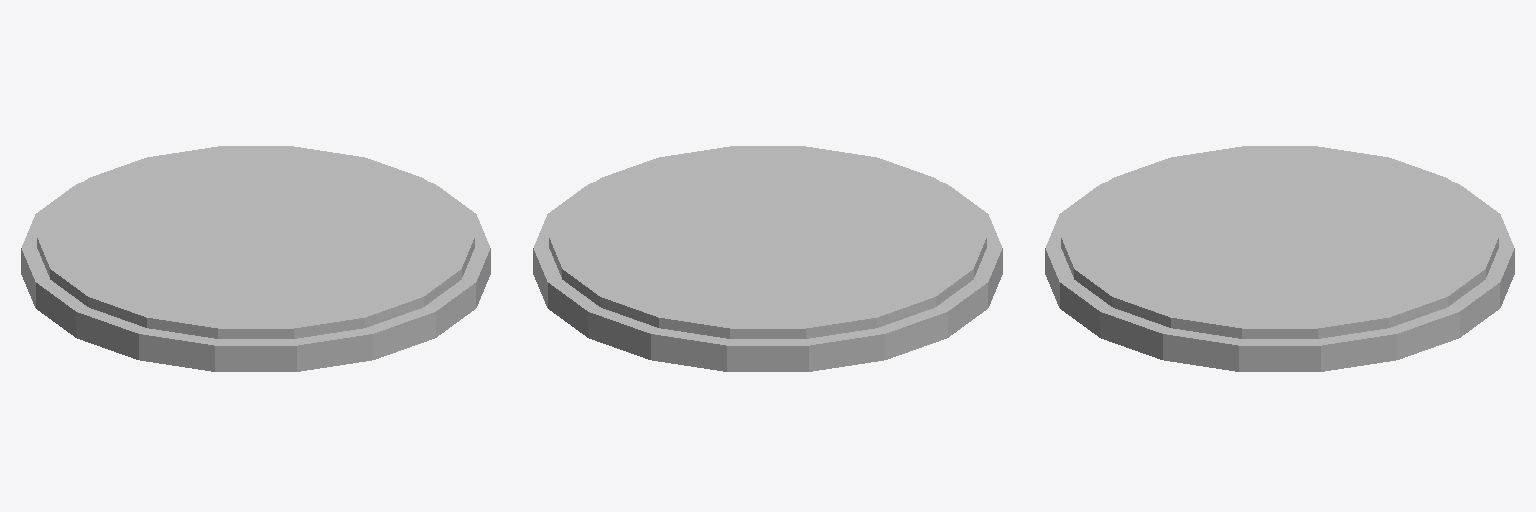
The model's file is Props_Roof Helipad.obj.
The picture shows the model from 3 angles: view 1: azimuth 30°, elevation 25°; view 2: azimuth 150°, elevation 25°; view 3: azimuth 270°, elevation 25°; orthographic projection.
Visible parts, largest first — view 1: Props_Roof_Helipad; view 2: Props_Roof_Helipad; view 3: Props_Roof_Helipad.
Part boxes in pixels (bbox=[...]): Props_Roof_Helipad: bbox=[21, 146, 490, 371]; Props_Roof_Helipad: bbox=[533, 146, 1002, 371]; Props_Roof_Helipad: bbox=[1045, 146, 1514, 371].
Size of the model in its own units: 301 by 26.62 by 306.